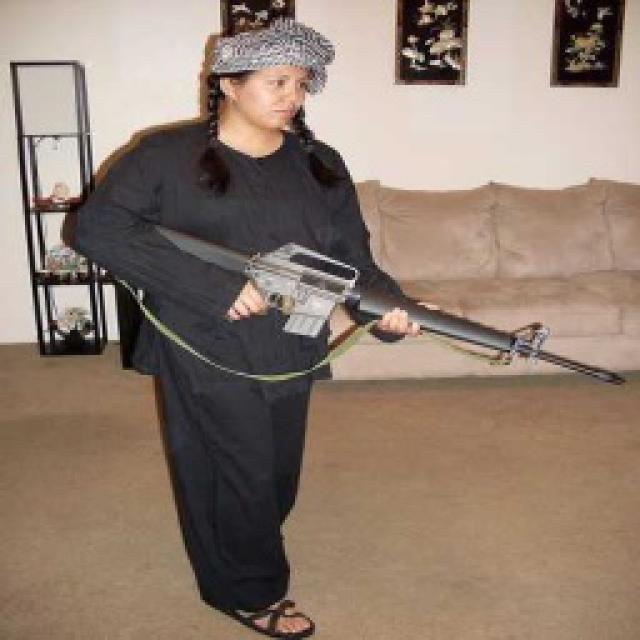long weapon: (102, 200, 638, 408)
